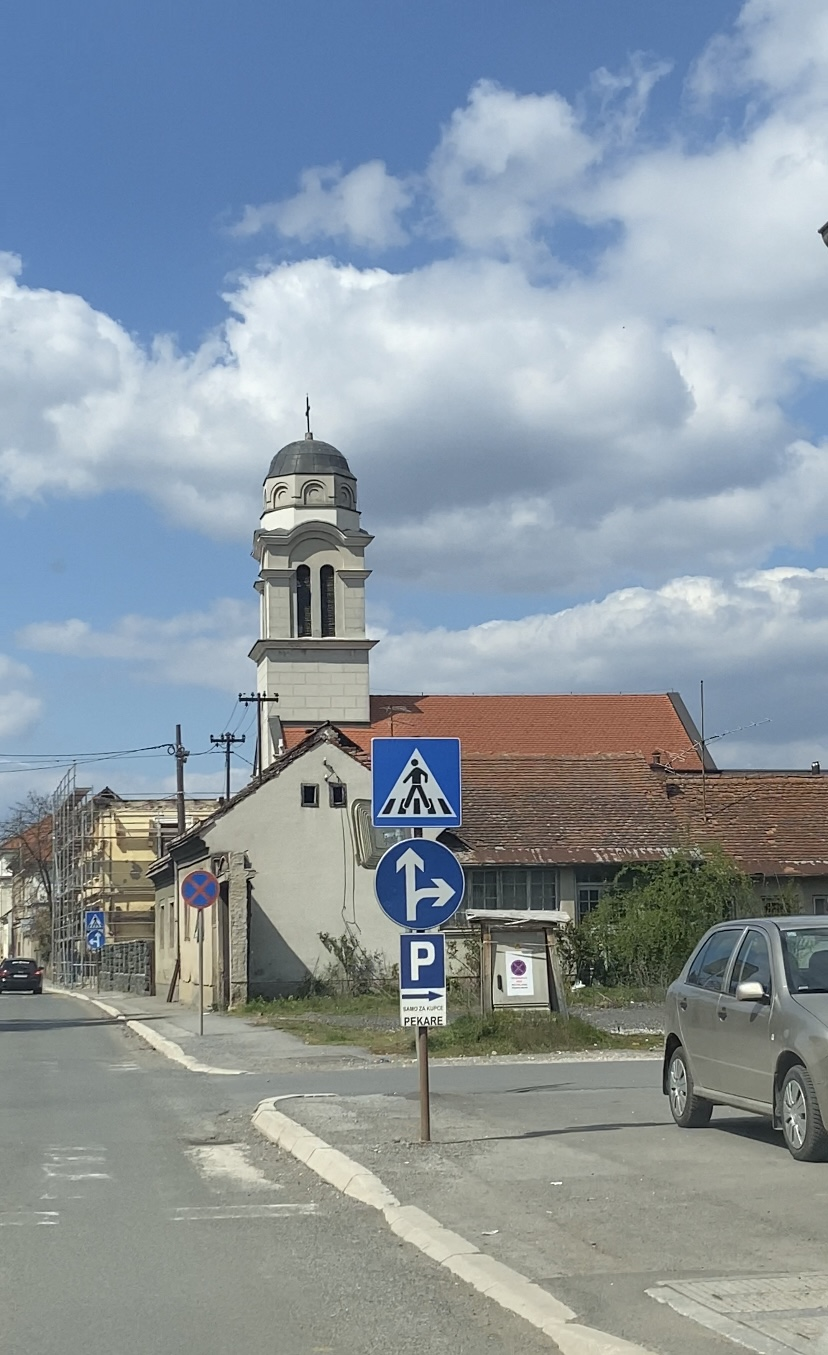Pješački prijelaz: (371, 738, 461, 826), (86, 912, 105, 930)
